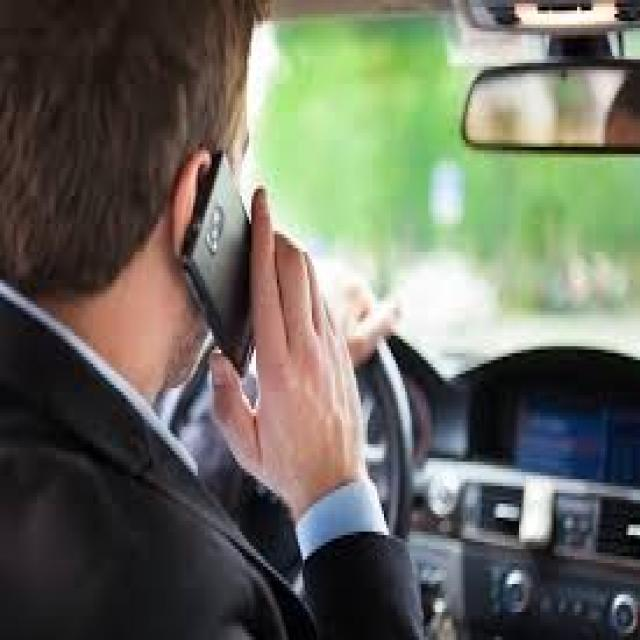Cellphone_calling: (126, 116, 358, 510)
